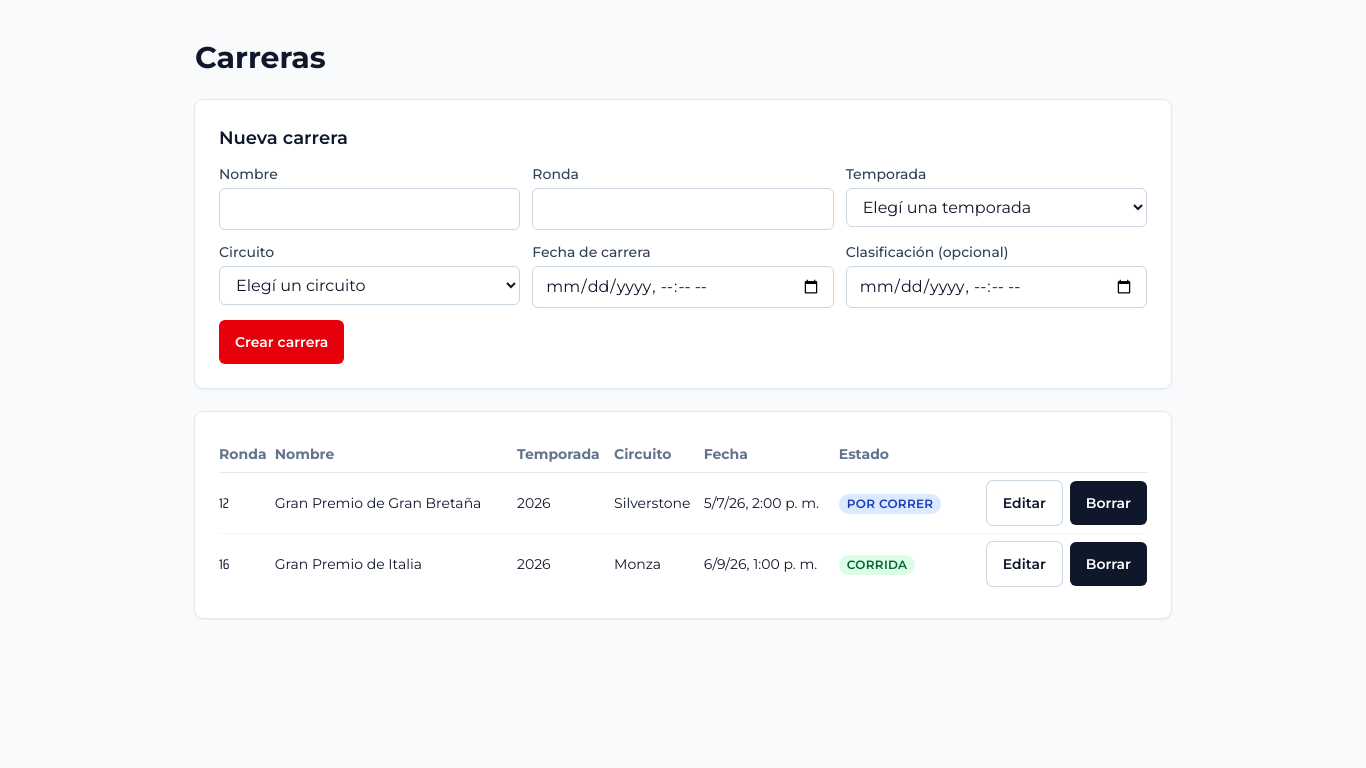
Test case: RacesPage › muestra en castellano el rechazo de una carrera con resultados
The width and height of the screenshot is (1366, 768).
Click the button with aria-label "Borrar Gran Premio de Italia". click: (1108, 564)
box: left=1070, top=542, right=1147, bottom=586
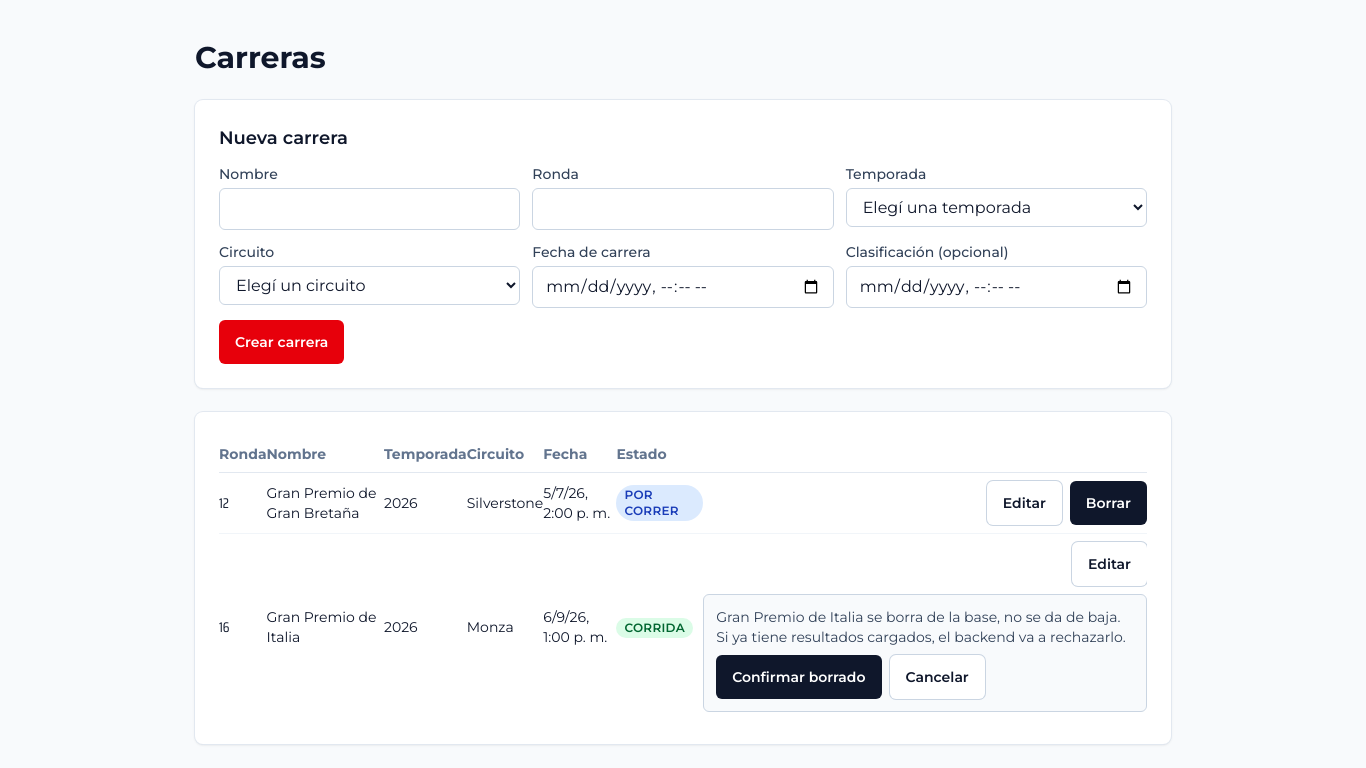
Click the button "Confirmar borrado". click: (799, 677)
box: left=716, top=655, right=882, bottom=699
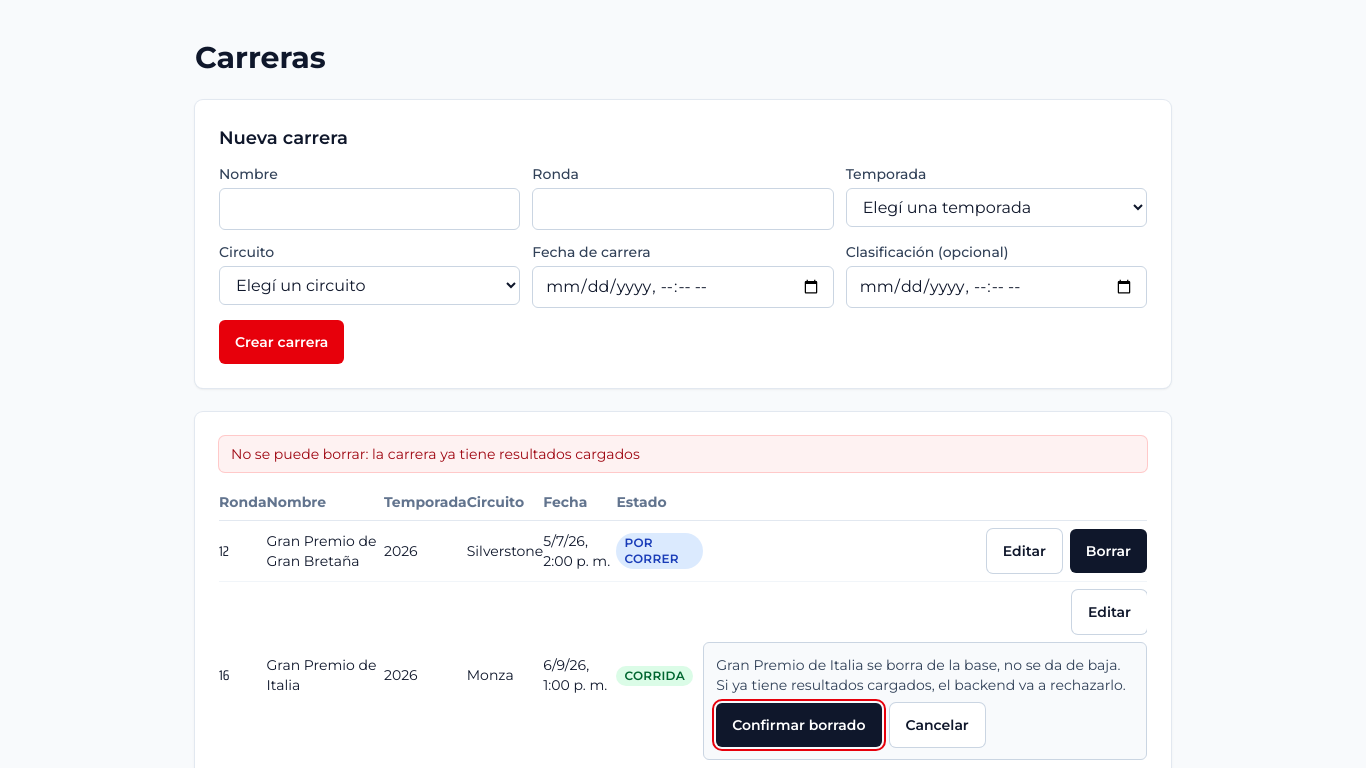
expect the text "No se puede borrar: la carrera ya tiene resultados cargados" is shown: met, box left=219, top=436, right=1147, bottom=472
